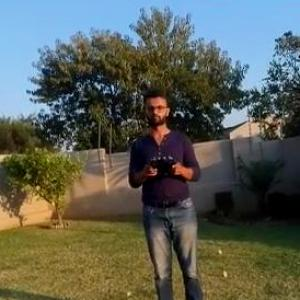follow: (124, 81, 209, 299)
